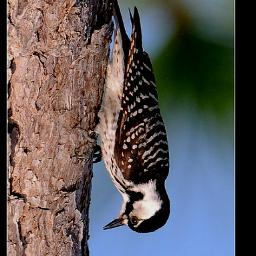Woodpecker: (87, 0, 175, 240)
